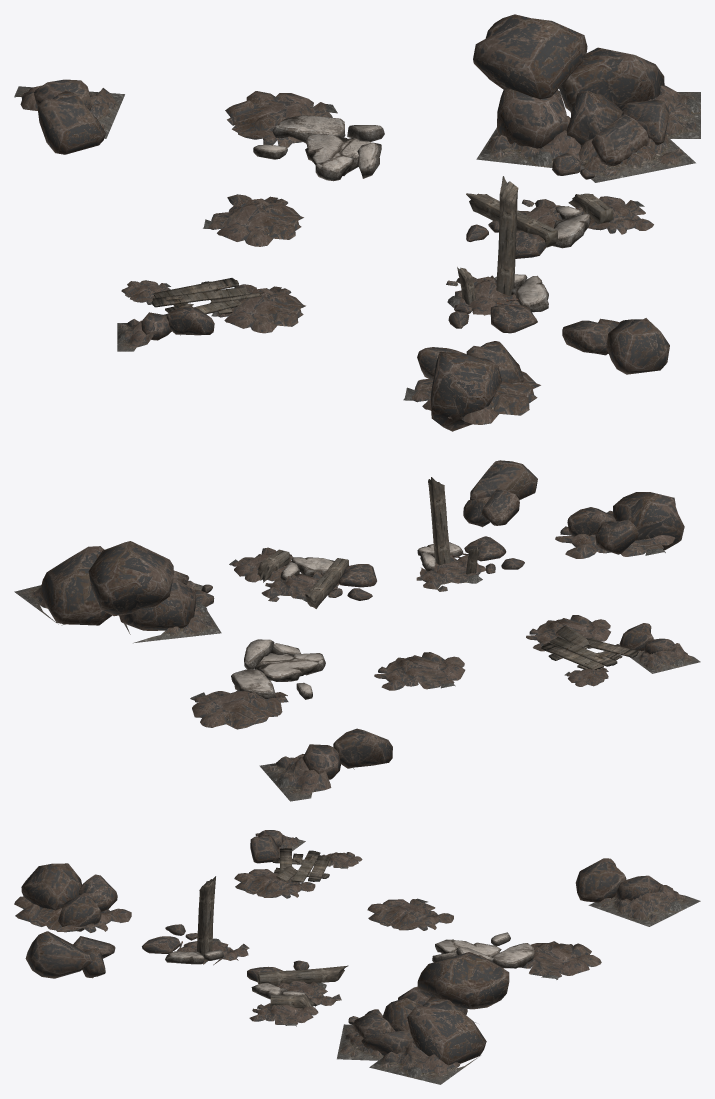
The model's file is 4way_intersection_rough_terrain.dae.
3 renders of one model, top to bottom at view 1: azimuth 30°, elevation 25°; view 2: azimuth 150°, elevation 25°; view 3: azimuth 270°, elevation 25°, orthographic. The views are drawn at different scales.
Parts seen in each view (by area): view 1: Rocks, RockPile, Concrete, Wood; view 2: Rocks, RockPile, Wood, Concrete; view 3: Rocks, RockPile, Wood, Concrete.
Boxes of the visible parts, x1,y1,x2,y2 form: Rocks: (33,14,669,431); RockPile: (14,85,700,424); Concrete: (253,115,590,312); Wood: (151,176,613,316); Rocks: (40,460,684,779); RockPile: (14,510,700,801); Wood: (258,477,638,669); Concrete: (231,542,468,699); Rocks: (21,830,660,1065); RockPile: (14,831,700,1084); Wood: (197,848,348,1008); Concrete: (165,932,534,999).
Bounding box in the file's own units: 1699 × 1939 × 305.
